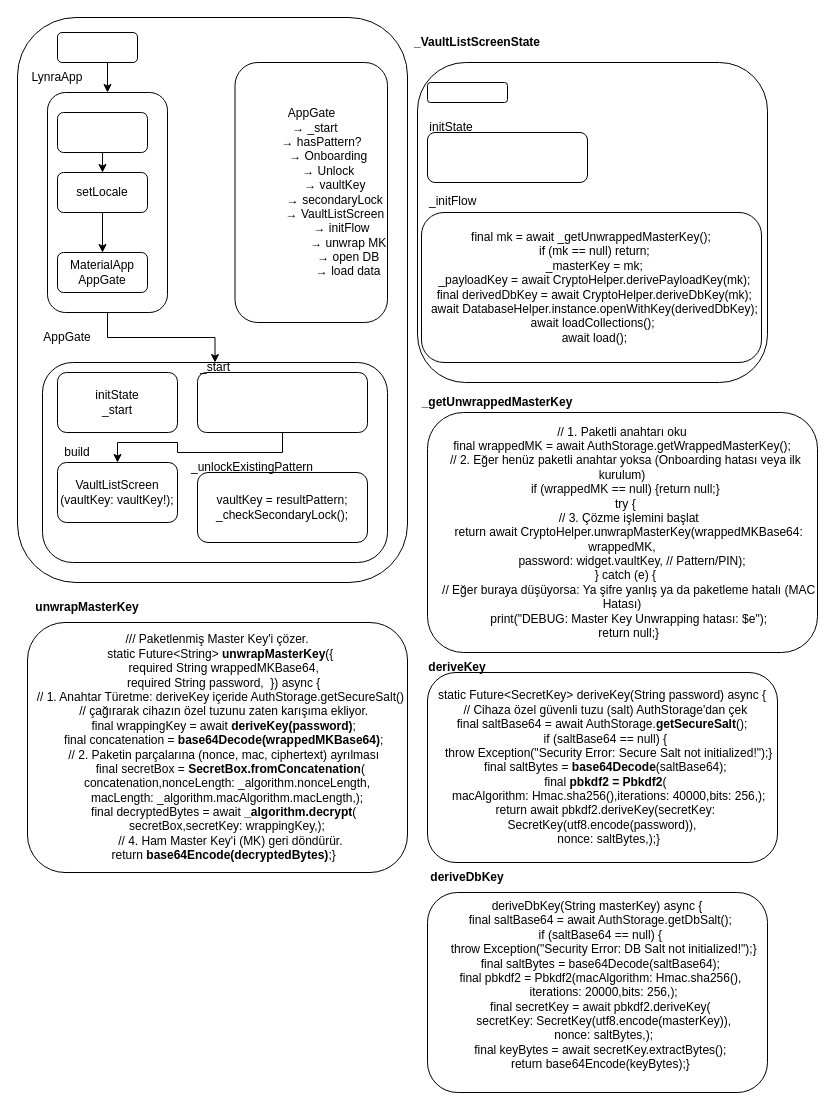
Some shapes in this 835 by 1110 pixel diagram are drawn without their labels. The shapes that lost their labels are listed below. From the top down, each one's centre as x and y in pixels, then its label:
(97,47): Main
(467,92): initState()
(102,132): loadLocale
(507,157): loadVaultWordSettings() _initFlow()
(282,402): OnboardingScreen _unlockExistingPattern
